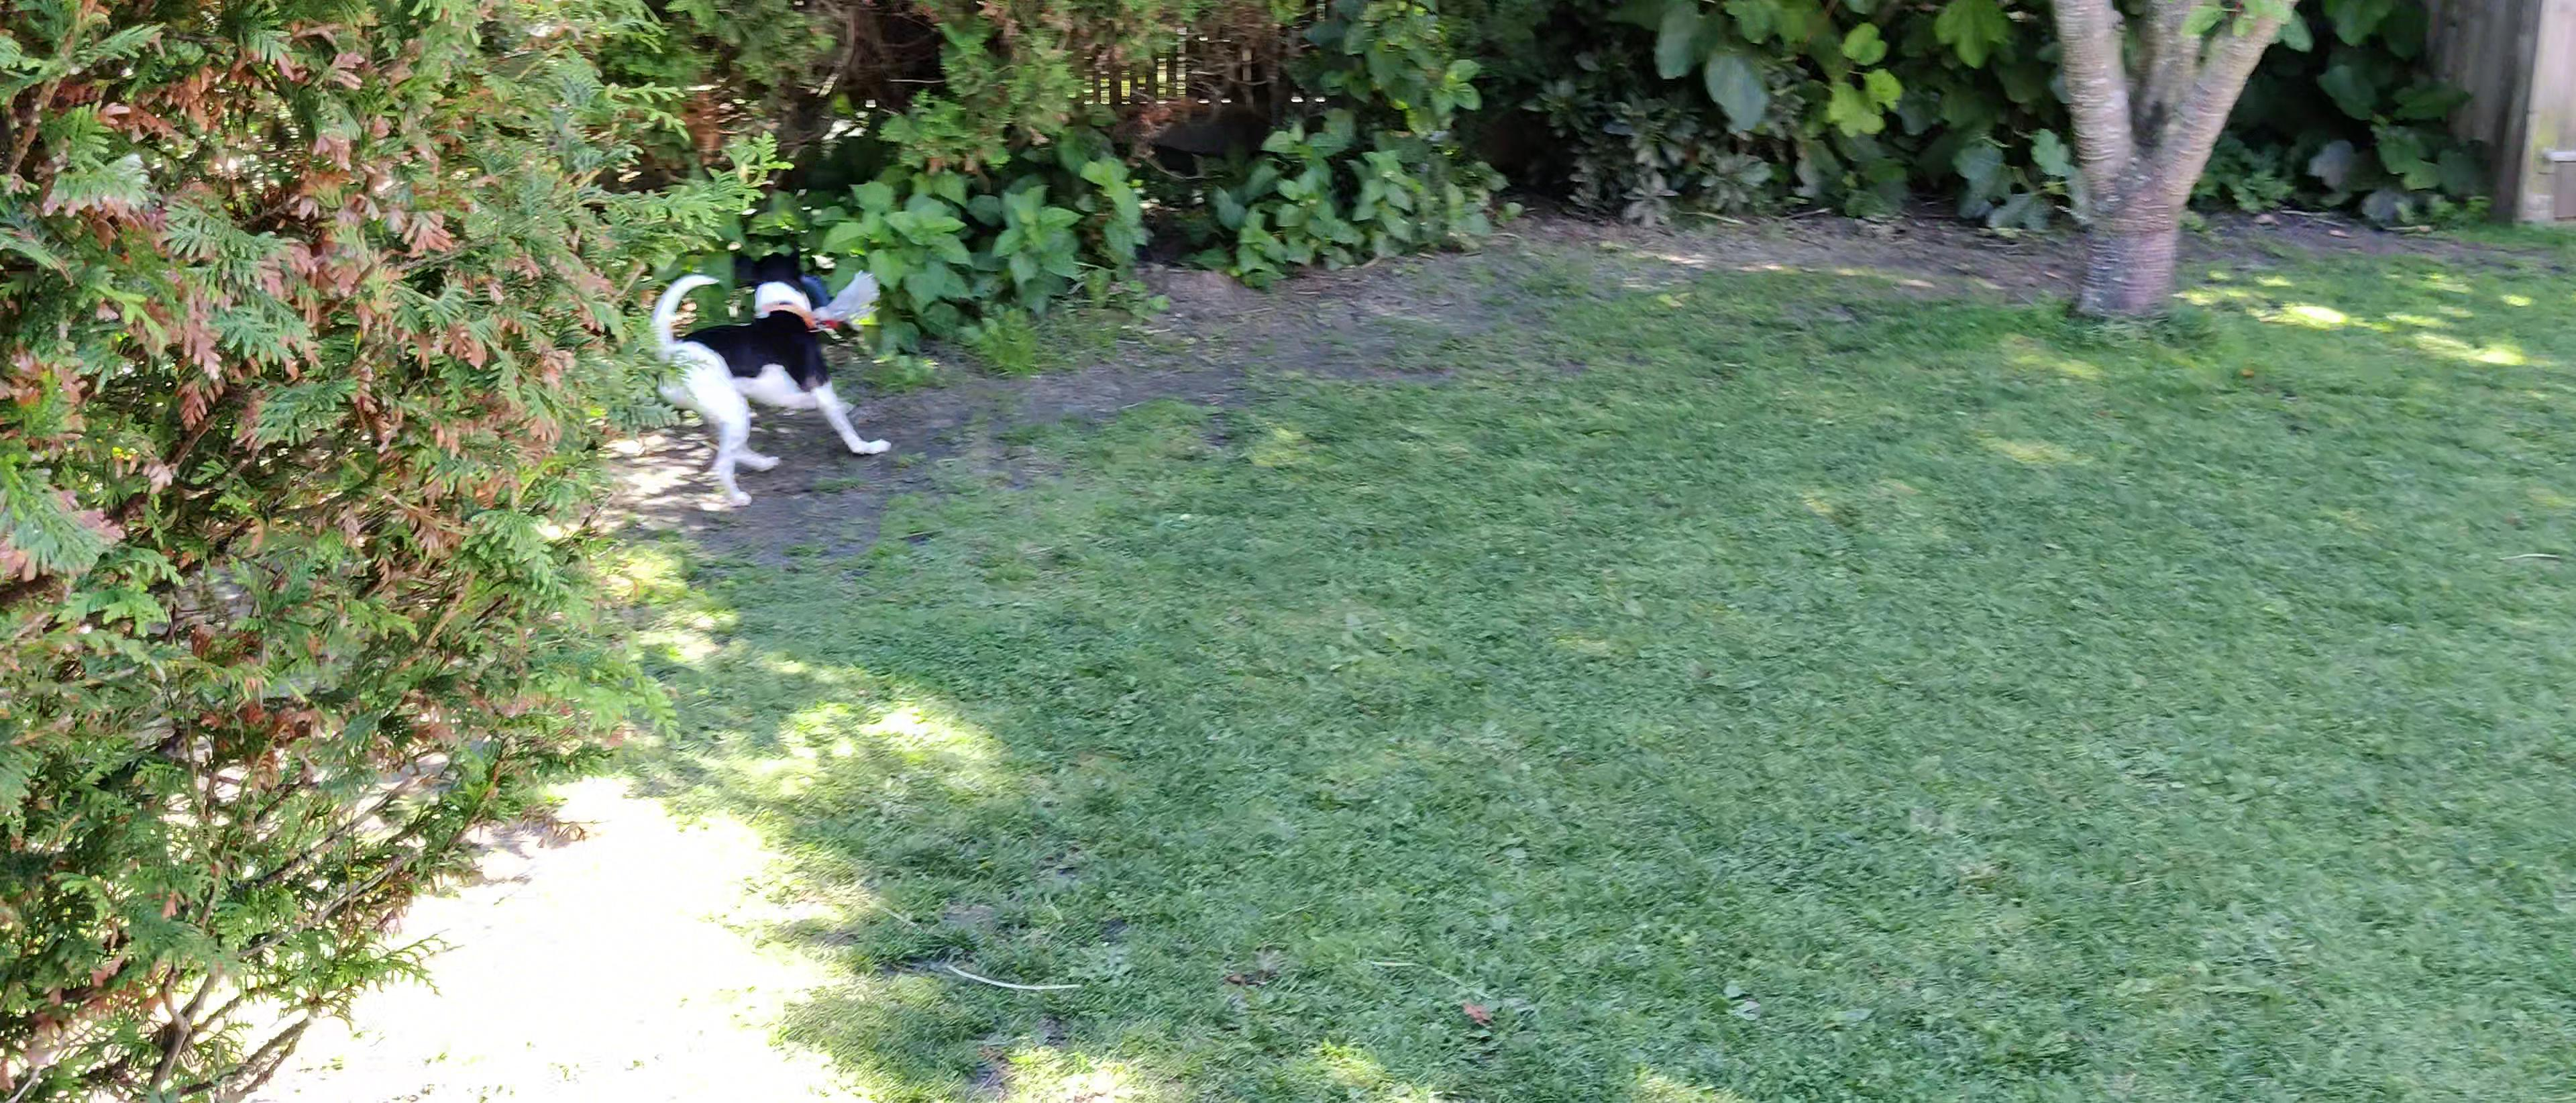Dog: (644, 247, 895, 513)
